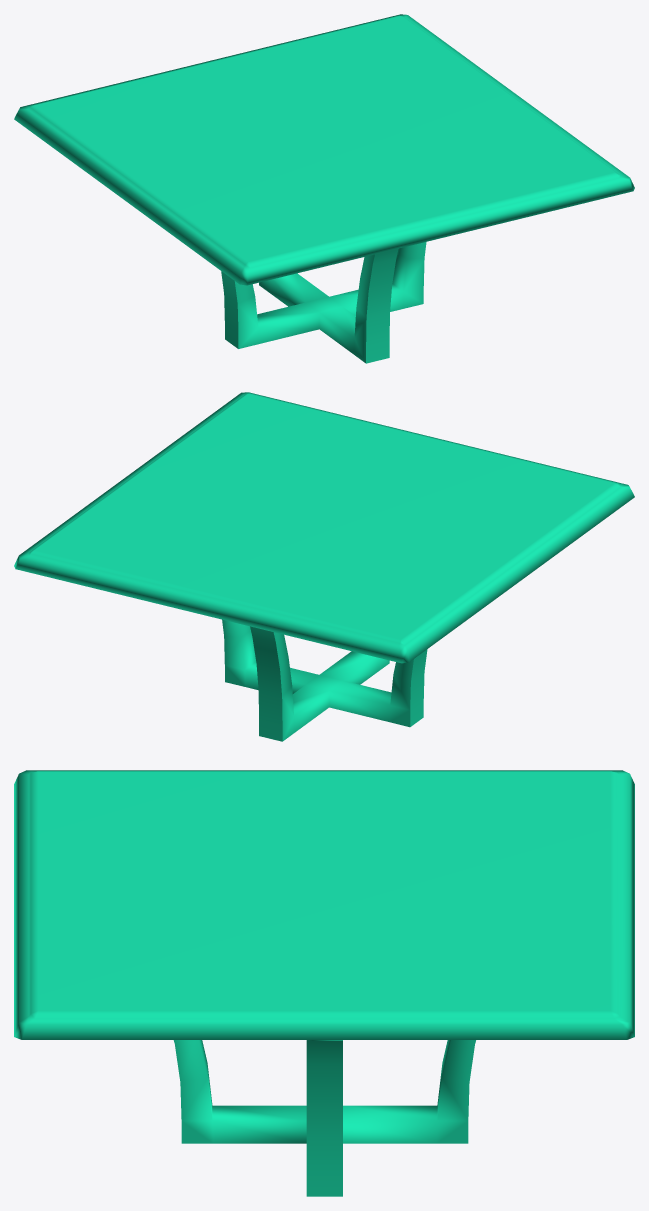
Rendered from Table_mesh.fbx.
The picture shows the model from 3 angles, top to bottom: view 1: azimuth 30°, elevation 25°; view 2: azimuth 150°, elevation 25°; view 3: azimuth 270°, elevation 25°; orthographic projection. The views are drawn at different scales.
Visible parts, largest first — view 1: Table_mesh; view 2: Table_mesh; view 3: Table_mesh.
Boxes of the visible parts, bbox=[...] form: Table_mesh: bbox=[14, 14, 634, 363]; Table_mesh: bbox=[14, 392, 634, 741]; Table_mesh: bbox=[14, 770, 634, 1196].
Bounding box in the file's own units: 255 × 113 × 259.
